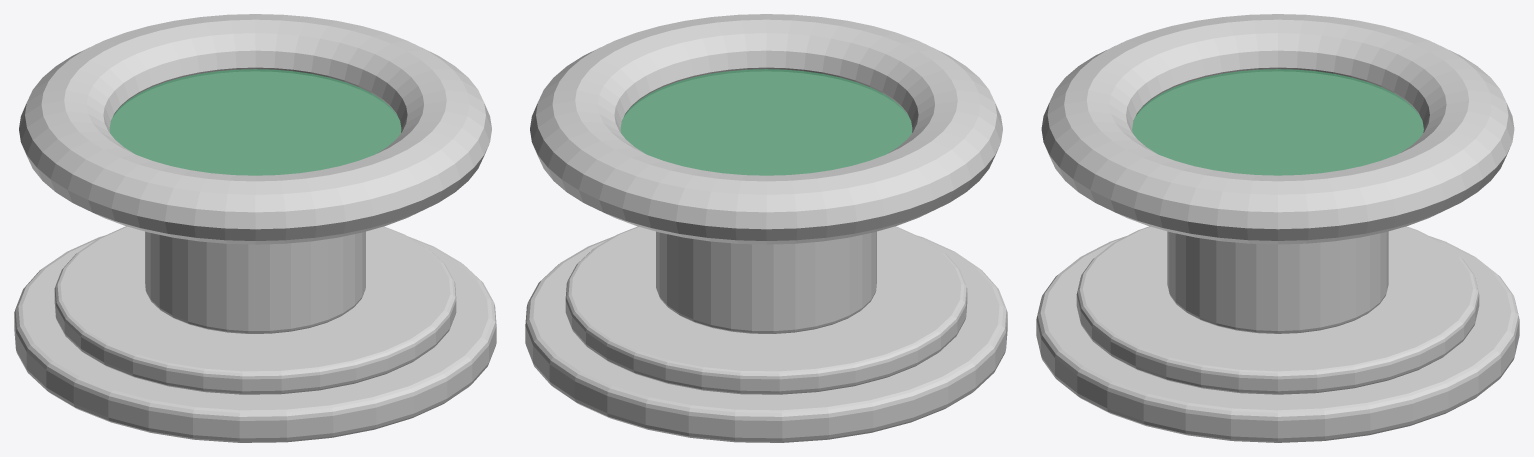
The picture shows the model from 3 angles, left to right: view 1: azimuth 30°, elevation 25°; view 2: azimuth 150°, elevation 25°; view 3: azimuth 270°, elevation 25°; orthographic projection.
Parts seen in each view (by area): view 1: Bowl, Mid_Ring, Base_Bottom, Water_Pool, Bowl_Base, Pedestal; view 2: Bowl, Mid_Ring, Base_Bottom, Water_Pool, Bowl_Base, Pedestal; view 3: Bowl, Mid_Ring, Base_Bottom, Water_Pool, Bowl_Base, Pedestal.
Boxes of the visible parts, x1,y1,x2,y2 form: Bowl: (19,14,491,244); Mid_Ring: (54,226,456,394); Base_Bottom: (14,235,496,442); Water_Pool: (109,69,401,175); Bowl_Base: (110,72,400,174); Pedestal: (145,231,365,333); Bowl: (530,14,1002,244); Mid_Ring: (565,226,967,394); Base_Bottom: (525,235,1007,442); Water_Pool: (620,69,912,175); Bowl_Base: (621,72,911,174); Pedestal: (656,231,876,333); Bowl: (1041,14,1514,244); Mid_Ring: (1076,226,1479,394); Base_Bottom: (1036,236,1519,442); Water_Pool: (1132,69,1423,175); Bowl_Base: (1132,72,1423,174); Pedestal: (1167,231,1388,333).
Bounding box in the file's own units: 4.8 × 2.66 × 4.8.
